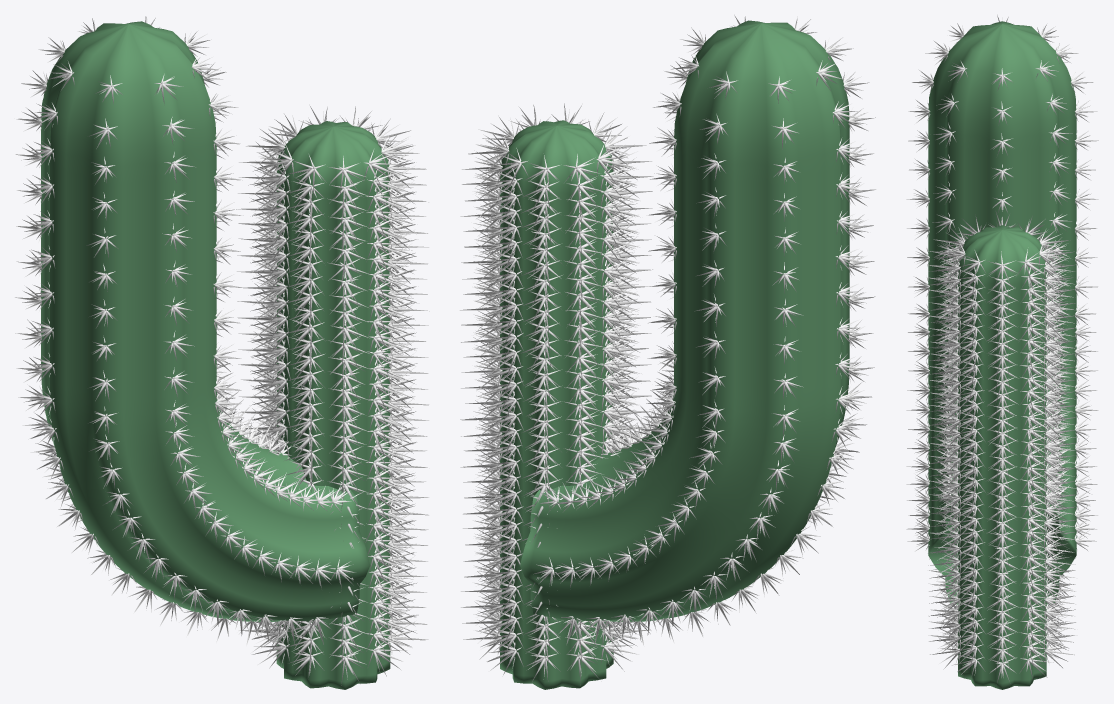
The picture shows the model from 3 angles, left to right: view 1: azimuth 30°, elevation 25°; view 2: azimuth 150°, elevation 25°; view 3: azimuth 270°, elevation 25°; orthographic projection. The views are drawn at different scales.
Parts seen in each view (by area): view 1: side_arm, stem_spine_clusters, main_stem, arm_spine_clusters; view 2: side_arm, stem_spine_clusters, main_stem, arm_spine_clusters; view 3: side_arm, stem_spine_clusters, main_stem, arm_spine_clusters.
Boxes of the visible parts, x1,y1,x2,y2 form: side_arm: (41, 21, 370, 621); stem_spine_clusters: (237, 106, 429, 685); main_stem: (276, 121, 390, 689); arm_spine_clusters: (15, 16, 355, 645); side_arm: (520, 20, 849, 621); stem_spine_clusters: (460, 103, 653, 685); main_stem: (500, 120, 613, 689); arm_spine_clusters: (533, 15, 875, 645); side_arm: (928, 21, 1076, 604); stem_spine_clusters: (928, 211, 1077, 683); main_stem: (958, 225, 1046, 689); arm_spine_clusters: (906, 15, 1098, 597).
Size of the model in its own units: 0.7611 by 1.28 by 0.4.
